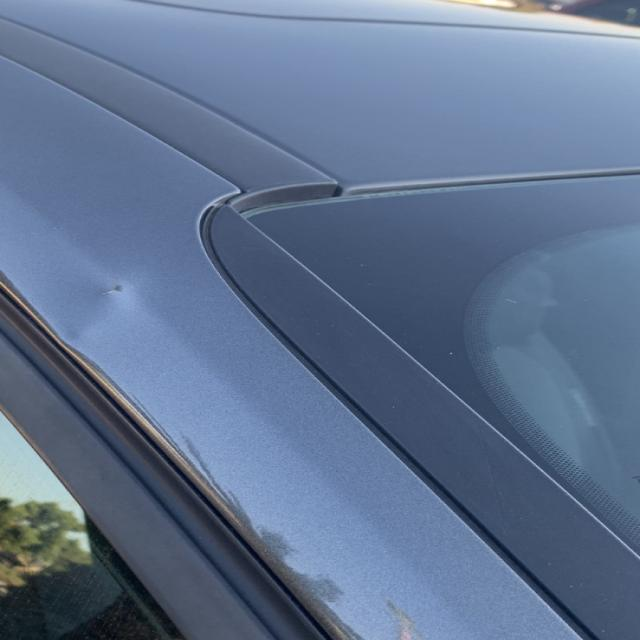dents: (60, 258, 173, 372)
